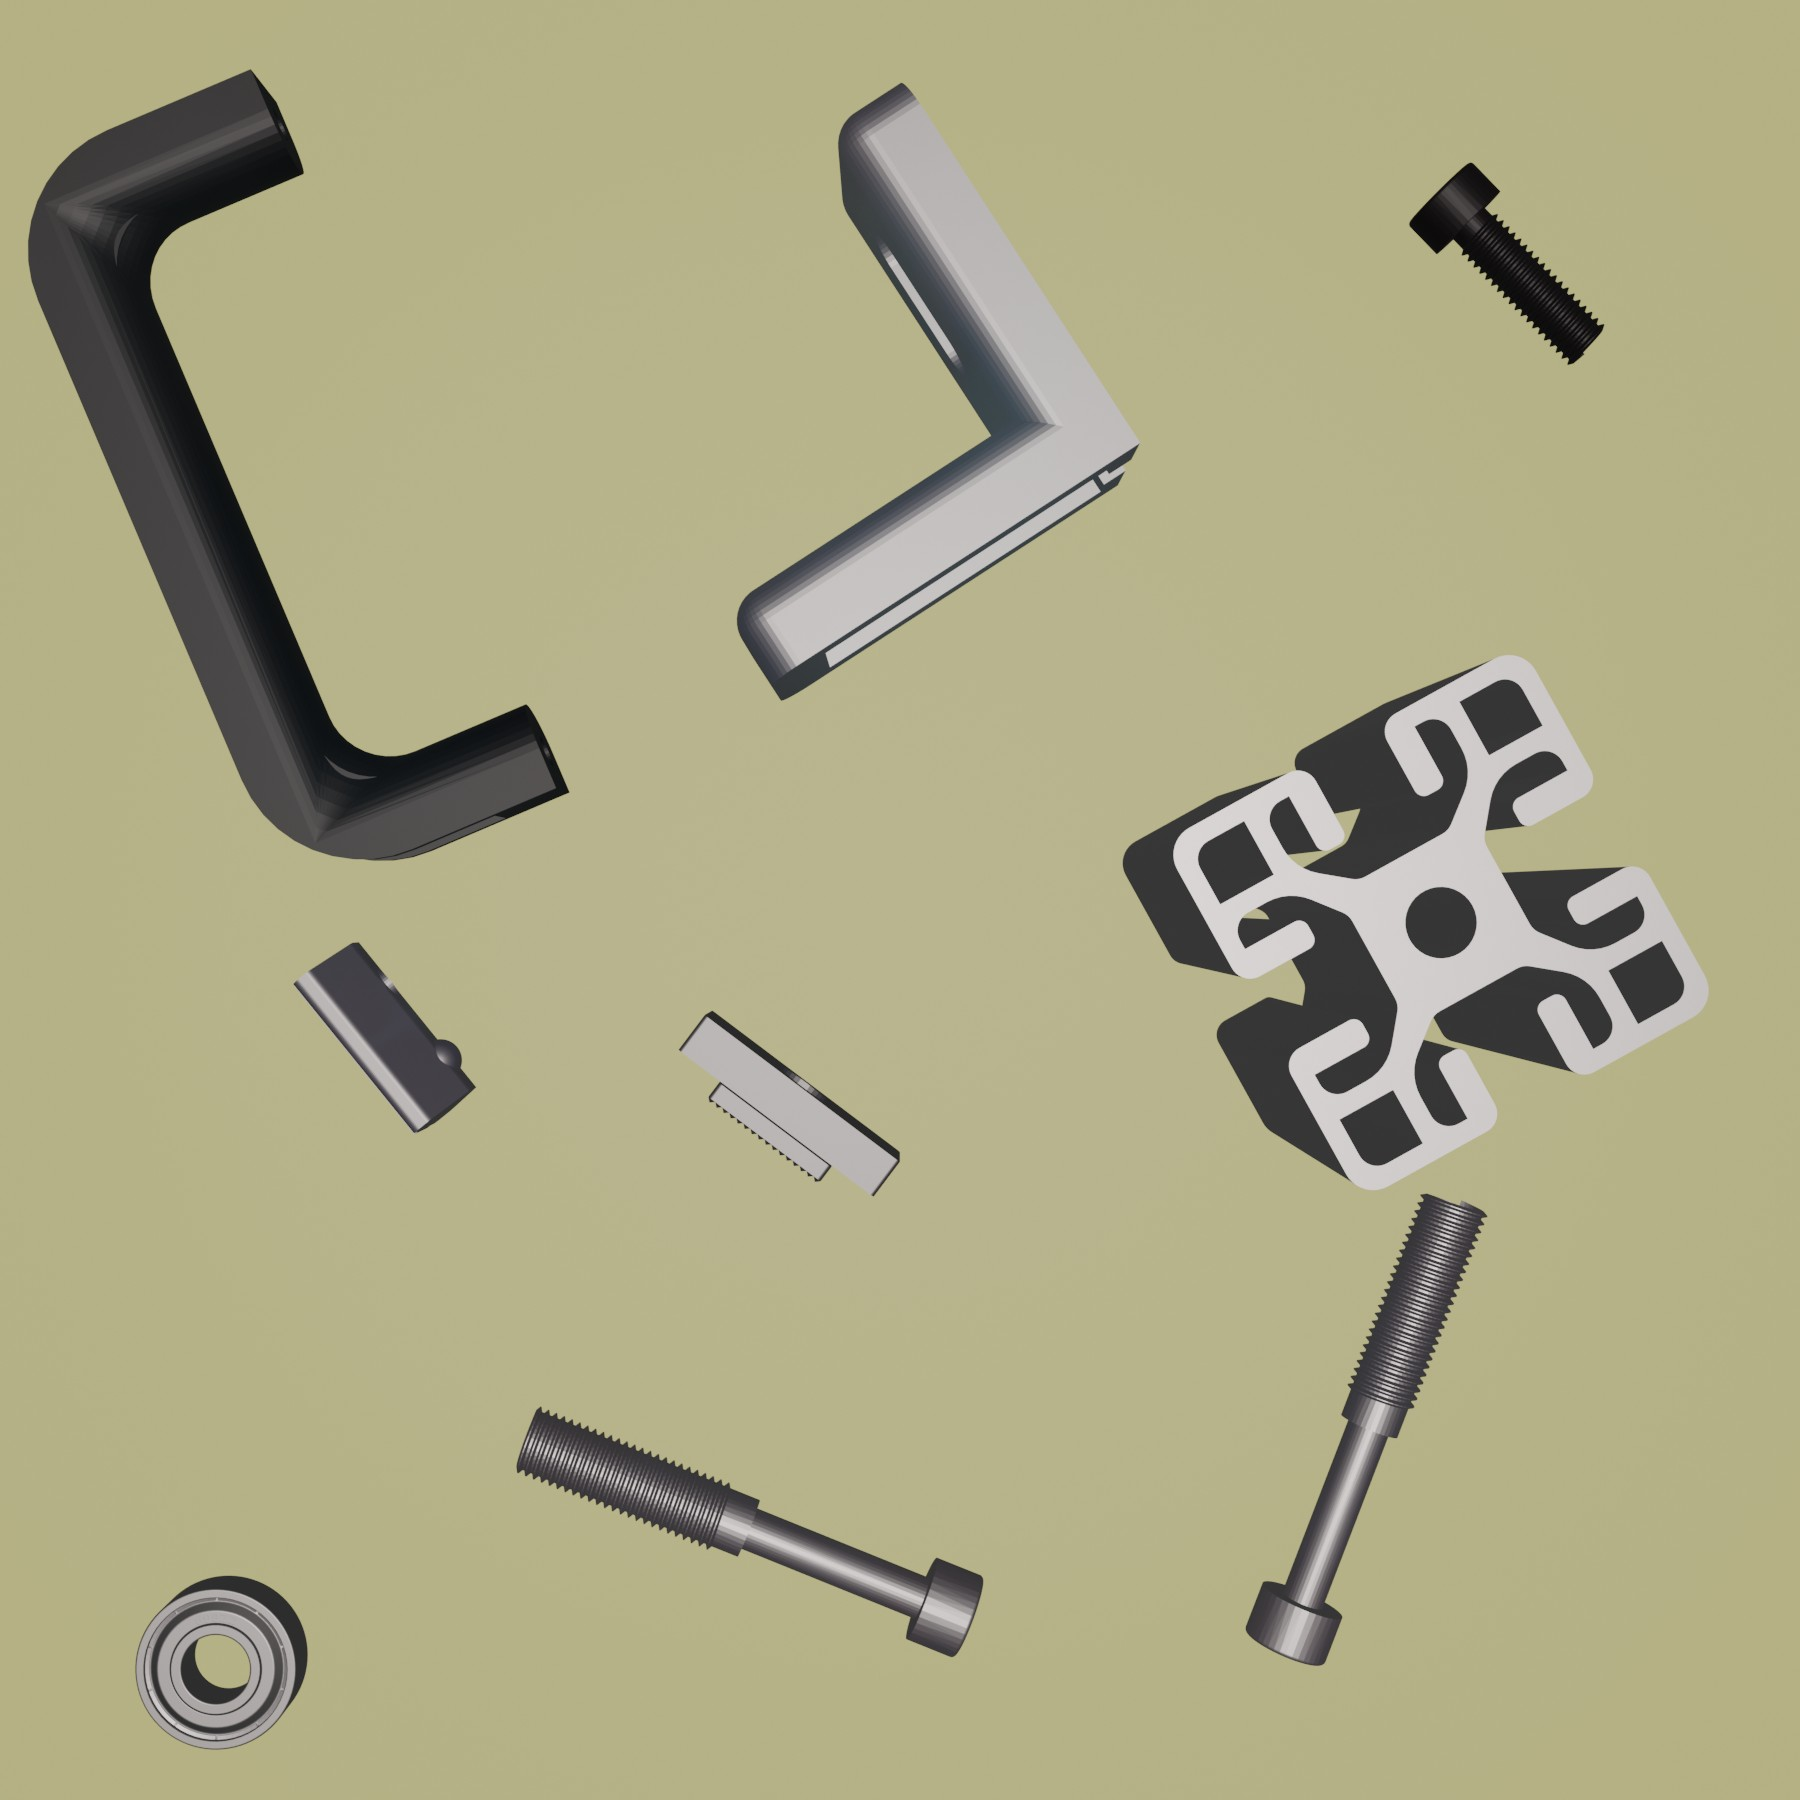Aluminium Extension: (1121, 653, 1713, 1197)
Ball Bearing: (132, 1568, 308, 1754)
Multiwinkel: (735, 81, 1142, 704)
Pull Handle: (25, 66, 569, 862)
Shoulder Socket Head Cap Screw: (513, 1401, 986, 1662), (1240, 1188, 1490, 1668)
Socket Head Cap Screw: (1406, 157, 1605, 366)
T Nut Square: (671, 1005, 902, 1202)
T Spring Nut: (288, 936, 476, 1137)
